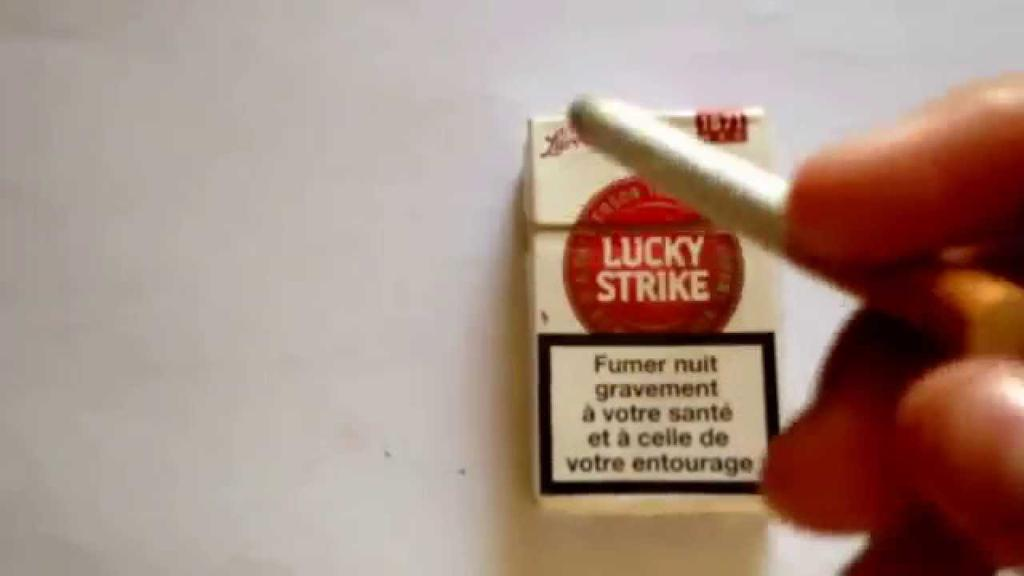lucky_strike_red: (534, 122, 777, 506)
